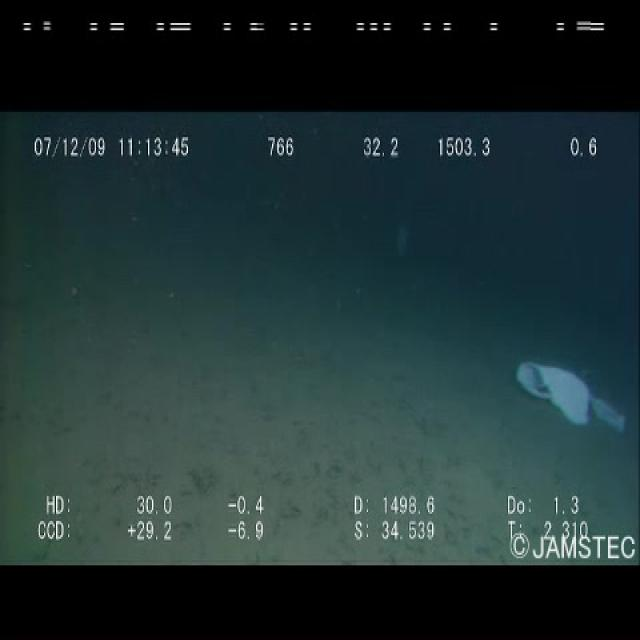plastic: (509, 352, 627, 441)
